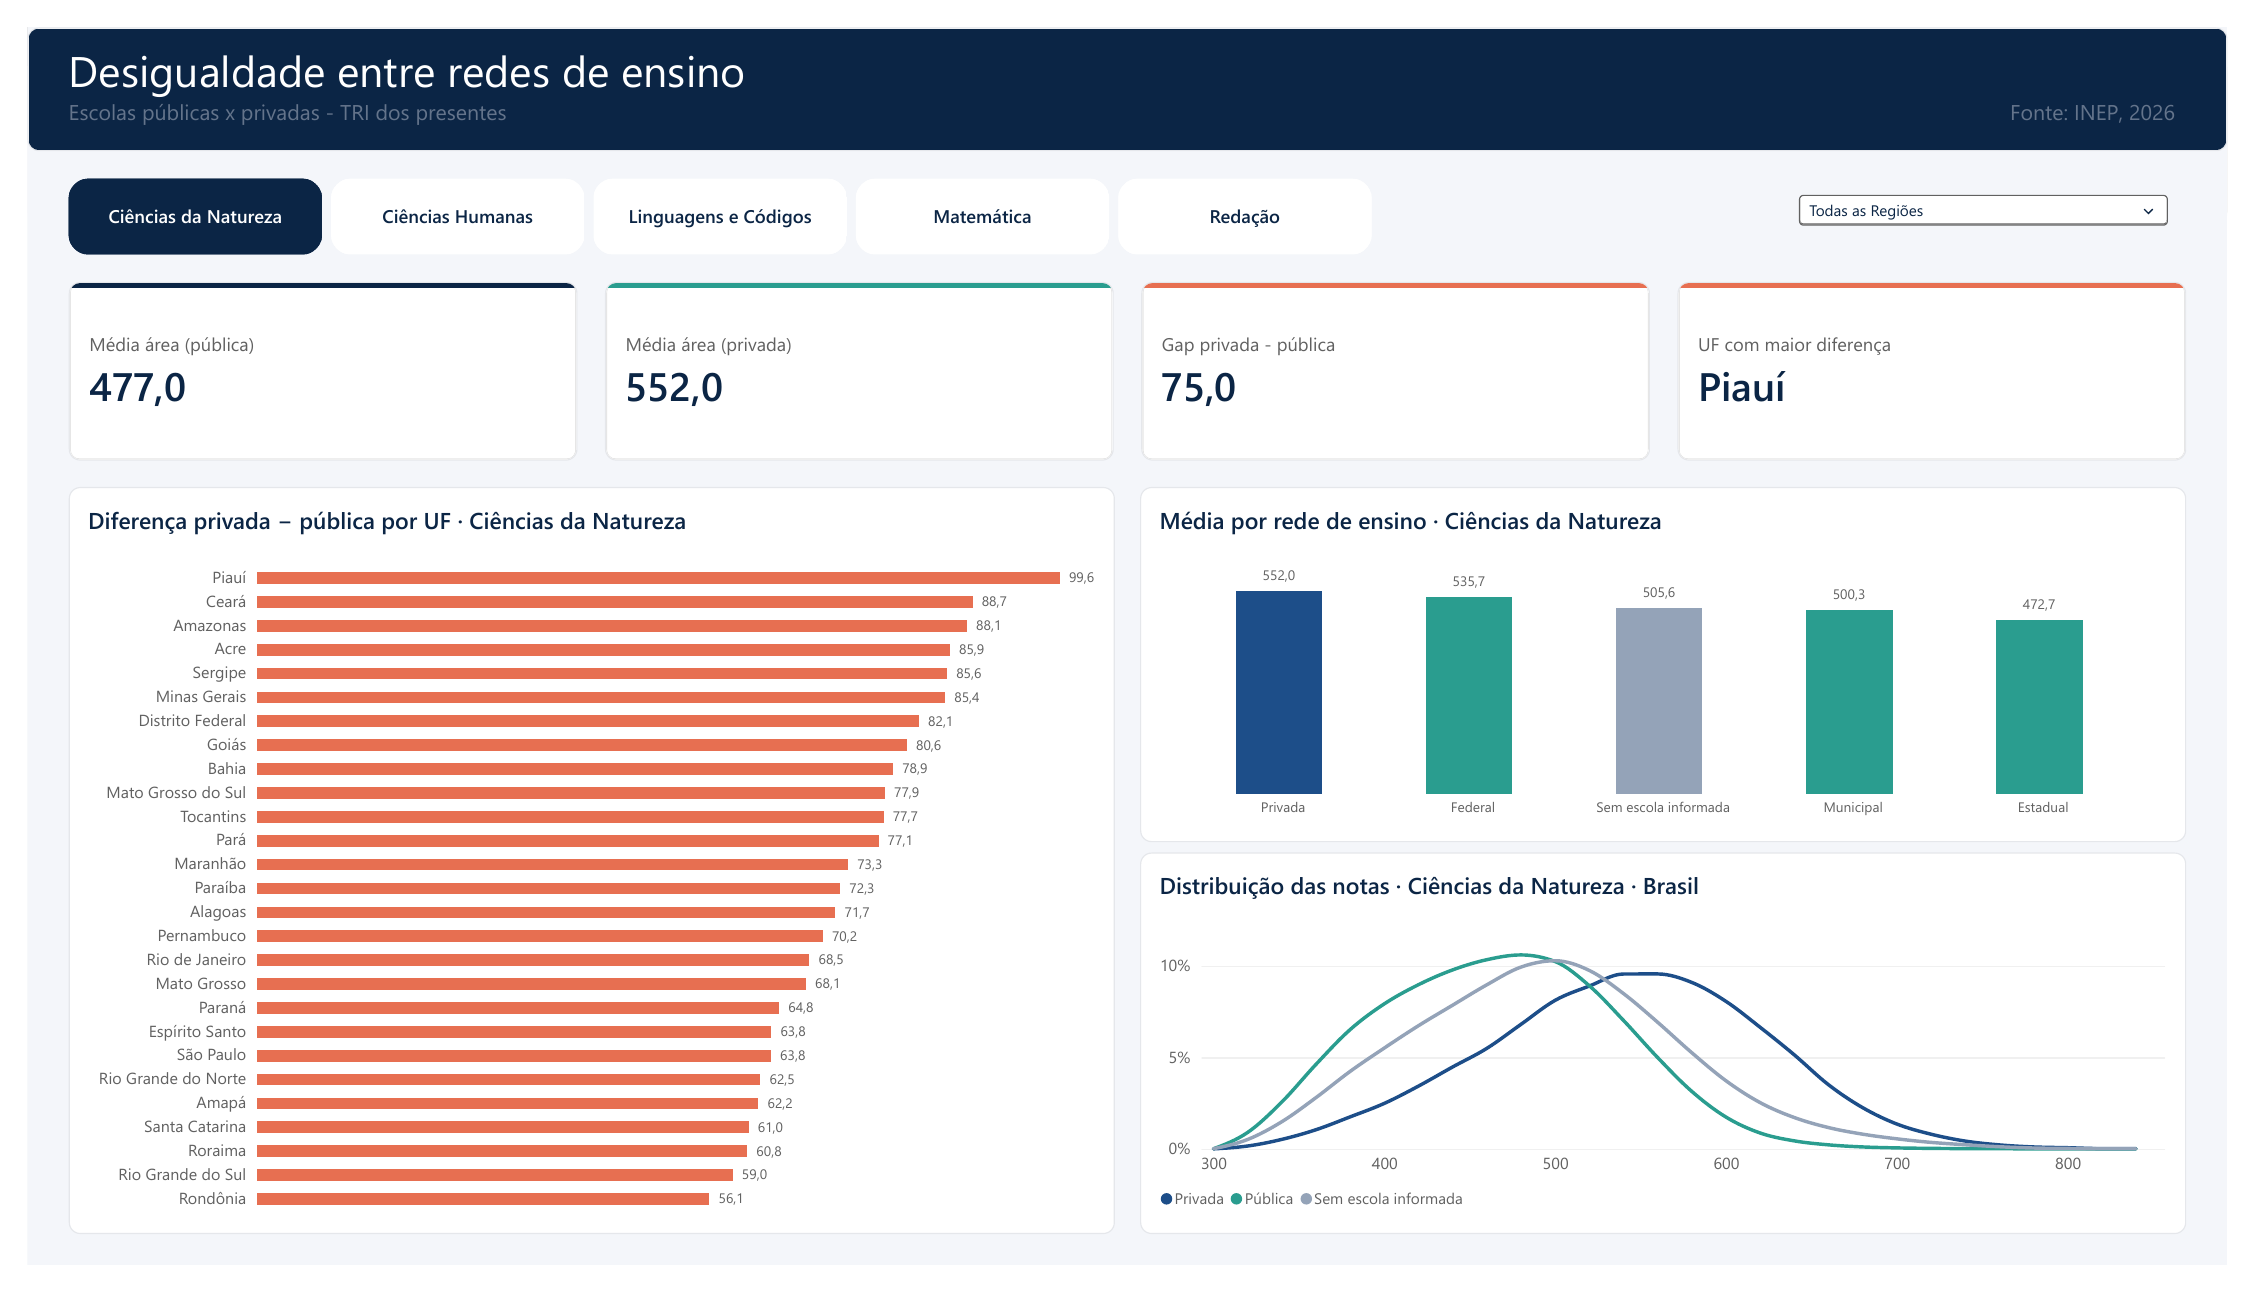

The dashboard page shown, as its layout file describes it:
{"tool":"powerbi","page":{"name":"Desigauldade","canvas":[1920,1080],"ordinal":1},"visuals":[{"type":"shape","box":[0,0,1920,108],"z":0},{"type":"textbox","box":[35.5,11.8,1855.7,82.9],"z":1000},{"type":"listSlicer","fields":{"Values":["dim_uf.regiao"]},"box":[1530,132,354,66],"z":2000},{"type":"advancedSlicerVisual","fields":{"Values":["dim_area.area"]},"box":[36,132,1140,66],"z":3000},{"type":"cardVisual","fields":{"Data":["_Medidas.Média área (pública)"]},"box":[36,222,444,156],"z":4000},{"type":"cardVisual","fields":{"Data":["_Medidas.Média área (privada)"]},"box":[504,222,444,156],"z":5000},{"type":"cardVisual","fields":{"Data":["_Medidas.Gap privada - pública"]},"box":[972,222,444,156],"z":6000},{"type":"clusteredBarChart","fields":{"Category":["dim_uf.uf"],"Y":["_Medidas.Gap privada - pública"]},"box":[35.7,401.4,912.9,651.4],"z":7000},{"type":"cardVisual","fields":{"Data":["_Medidas.UF com maior diferença"]},"box":[1440,222,444,156],"z":8000},{"type":"columnChart","fields":{"Category":["dim_rede.rede"],"Y":["_Medidas.Média da área selecionada"]},"box":[971.4,401.4,912.9,310],"z":9000},{"type":"lineChart","fields":{"Category":["fato_distribuicao.faixa_inicio"],"Series":["dim_rede.rede_grupo"],"Y":["_Medidas.% na faixa"]},"box":[971.4,720,912.9,332.9],"z":10000}]}

Visuals, with their boxes in screenshot pixels (x1, y1, x2, y2), scaled from the page's 1920x1080 canvas onto the 2255x1293 screenshot:
shape: [0, 0, 2254, 129]
textbox: [42, 14, 2221, 113]
listSlicer - dim_uf.regiao: [1797, 158, 2213, 237]
advancedSlicerVisual - dim_area.area: [42, 158, 1381, 237]
cardVisual - _Medidas.Média área (pública): [42, 266, 564, 453]
cardVisual - _Medidas.Média área (privada): [592, 266, 1113, 453]
cardVisual - _Medidas.Gap privada - pública: [1142, 266, 1663, 453]
clusteredBarChart - dim_uf.uf x _Medidas.Gap privada - pública: [42, 481, 1114, 1260]
cardVisual - _Medidas.UF com maior diferença: [1691, 266, 2213, 453]
columnChart - dim_rede.rede x _Medidas.Média da área selecionada: [1141, 481, 2213, 852]
lineChart - fato_distribuicao.faixa_inicio x dim_rede.rede_grupo: [1141, 862, 2213, 1261]
